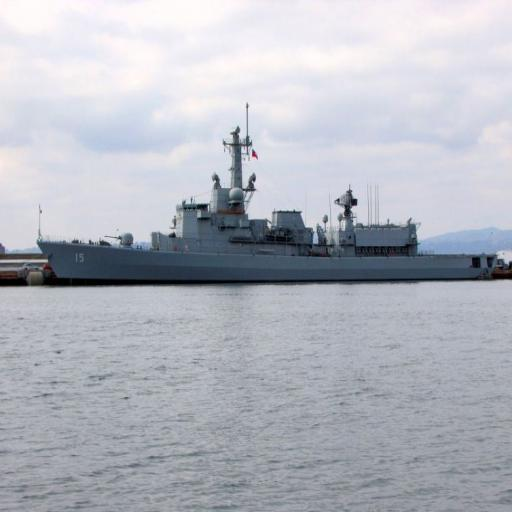Fragata: (34, 111, 501, 290)
